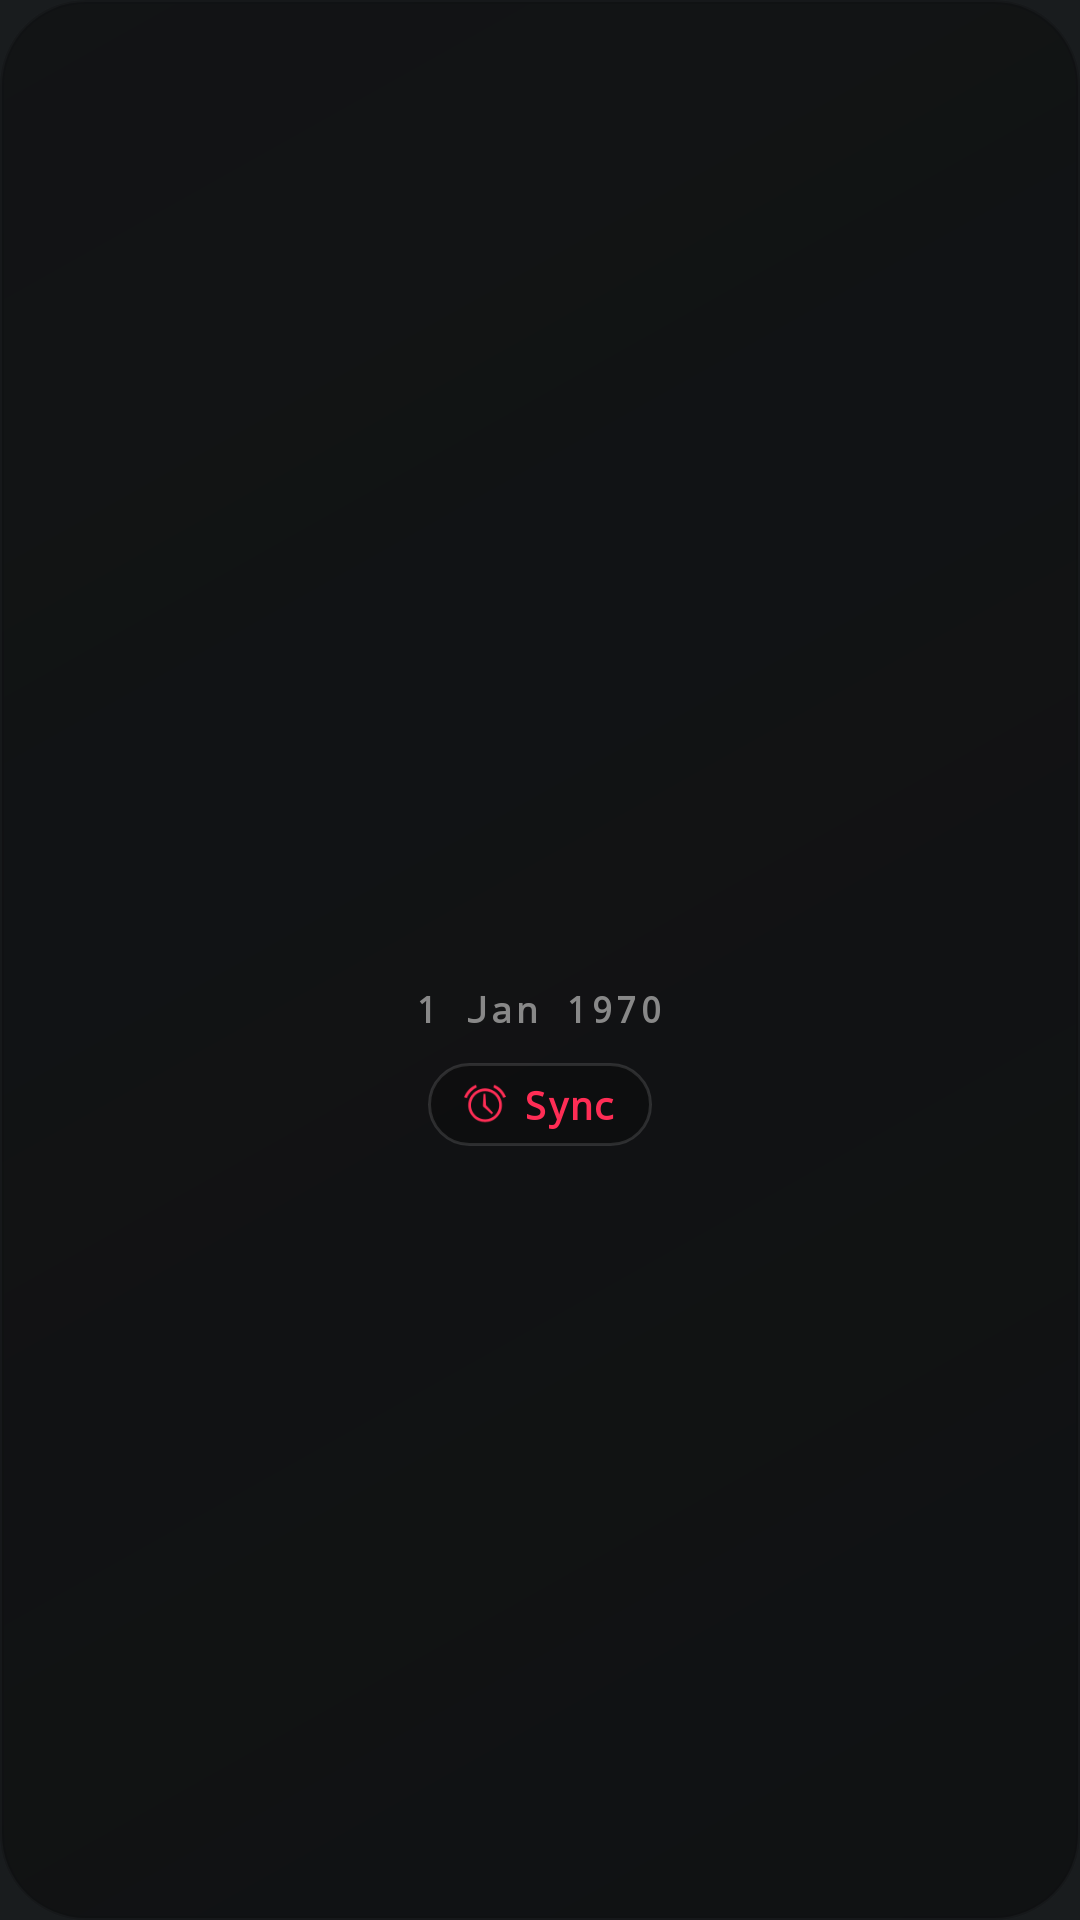

Icon click points for this 1080*1920 phone screenshot, format point (x, y):
Alarm Icon: point (485, 1103)
